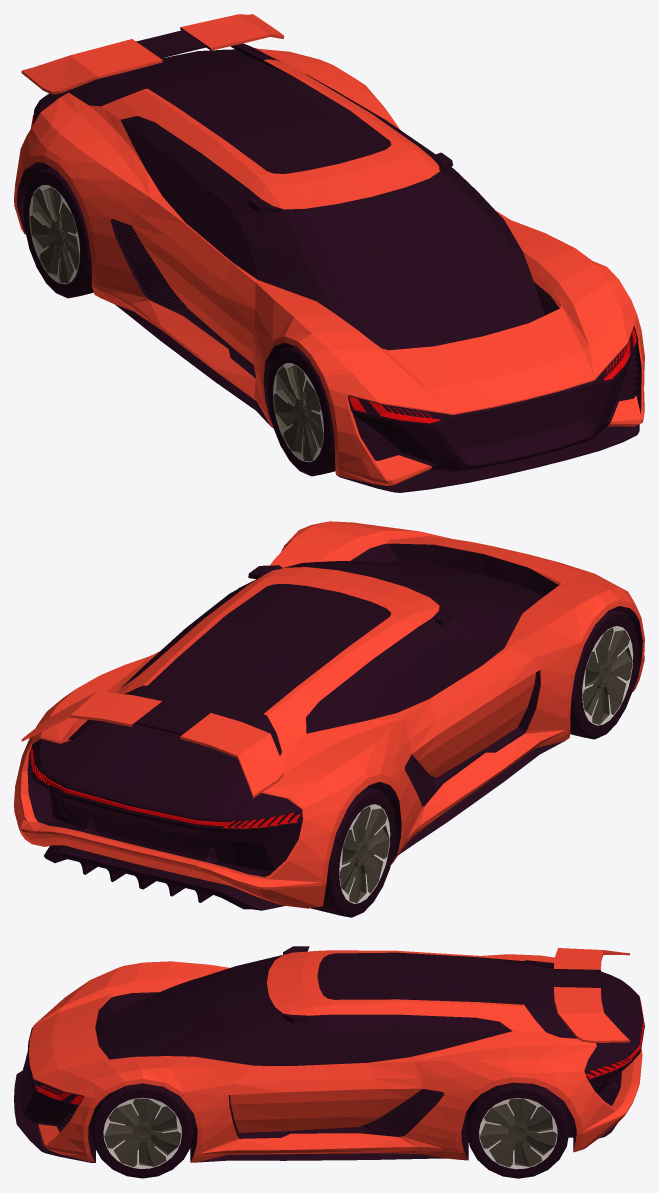
The model's file is Car.glb.
The picture shows the model from 3 angles, top to bottom: view 1: azimuth 30°, elevation 25°; view 2: azimuth 150°, elevation 25°; view 3: azimuth 270°, elevation 25°; orthographic projection. The views are drawn at different scales.
Parts seen in each view (by area): view 1: Body, Body Glass, Body tyres, black, Body Kinare, Black front bottom, B Rim, Side net, Front net background, Front Net, bb kinareee, Front net shadow (+2 smaller); view 2: Body, Body Glass, Back black, Body tyres, Body Kinare, B Rim, Side net, black, Bottom, Bcklight Stripe; view 3: Body, Body Glass, Body tyres, Body Kinare, B Rim, black, car 5.445, Back black, Black front bottom, bb kinareee.
Part boxes in pixels (bbox=[...]): Body: bbox=[14, 14, 644, 484]; Body Glass: bbox=[39, 30, 636, 423]; Body tyres: bbox=[23, 168, 335, 476]; black: bbox=[115, 73, 641, 471]; Body Kinare: bbox=[21, 27, 529, 315]; Black front bottom: bbox=[338, 359, 639, 492]; B Rim: bbox=[29, 185, 339, 476]; Side net: bbox=[110, 218, 255, 378]; Front net background: bbox=[446, 386, 591, 448]; Front Net: bbox=[355, 350, 638, 454]; bb kinareee: bbox=[346, 325, 639, 426]; Front net shadow: bbox=[445, 379, 594, 447]; Body: bbox=[14, 521, 644, 910]; Body Glass: bbox=[39, 561, 541, 816]; Back black: bbox=[28, 739, 302, 876]; Body tyres: bbox=[311, 609, 638, 917]; Body Kinare: bbox=[14, 561, 529, 889]; B Rim: bbox=[339, 626, 634, 903]; Side net: bbox=[405, 670, 540, 806]; black: bbox=[399, 741, 564, 854]; Bottom: bbox=[46, 854, 258, 910]; Bcklight Stripe: bbox=[29, 749, 300, 828]; Body: bbox=[29, 948, 642, 1162]; Body Glass: bbox=[36, 953, 640, 1104]; Body tyres: bbox=[91, 1082, 569, 1178]; Body Kinare: bbox=[174, 946, 644, 1134]; B Rim: bbox=[103, 1097, 557, 1169]; black: bbox=[20, 1027, 445, 1162]; car 5.445: bbox=[229, 1089, 444, 1138]; Back black: bbox=[484, 987, 644, 1147]; Black front bottom: bbox=[14, 1070, 89, 1162]; bb kinareee: bbox=[33, 1079, 84, 1106].
Size of the model in its own units: 62.62 by 36.52 by 142.
